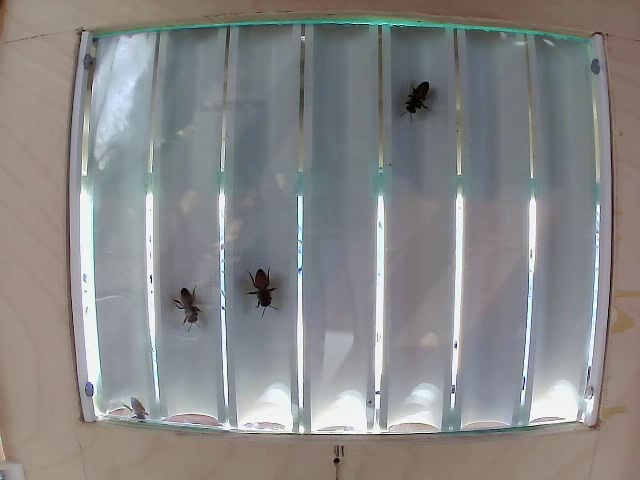bee: (253, 266, 293, 325), (175, 280, 216, 324), (404, 68, 429, 112)
